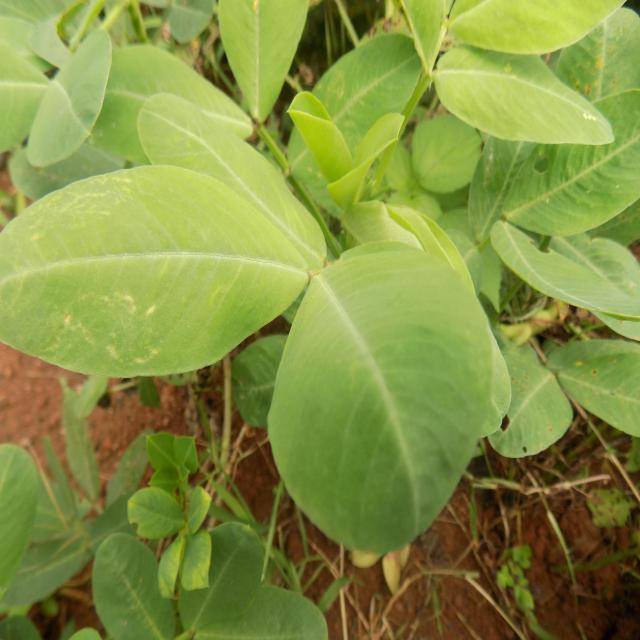Ground nut_healthy: (268, 248, 496, 546), (3, 166, 310, 377), (136, 88, 326, 270), (65, 33, 256, 164), (288, 21, 422, 188), (437, 47, 612, 149), (29, 35, 115, 167), (91, 530, 181, 640), (542, 322, 640, 418), (400, 102, 483, 192)
